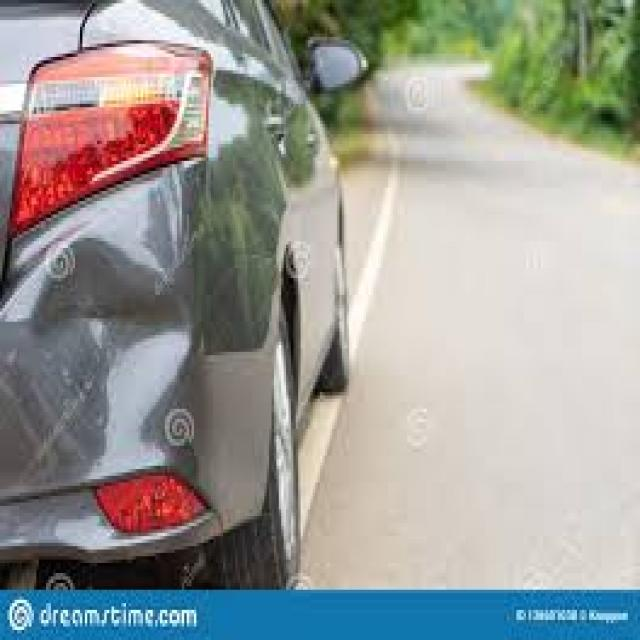minor: (20, 220, 207, 444)
